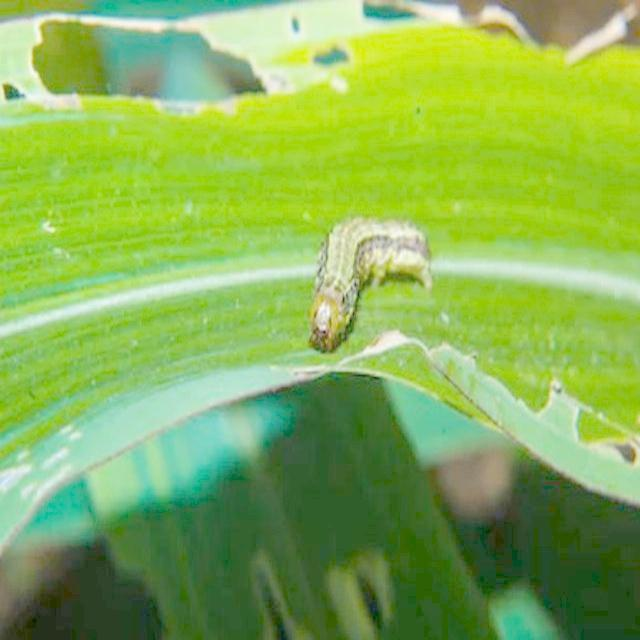worm: (307, 215, 434, 354)
